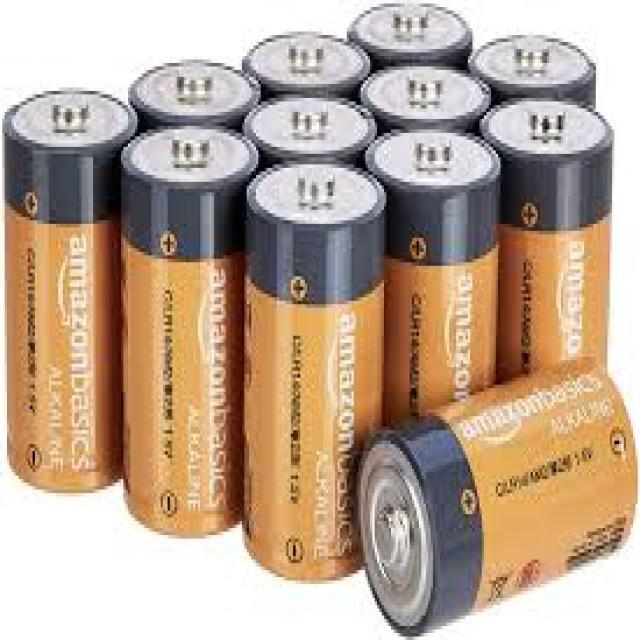battery: (363, 352, 640, 636), (244, 160, 382, 588), (122, 118, 255, 536), (5, 91, 140, 500), (361, 124, 504, 432), (475, 96, 608, 376)
